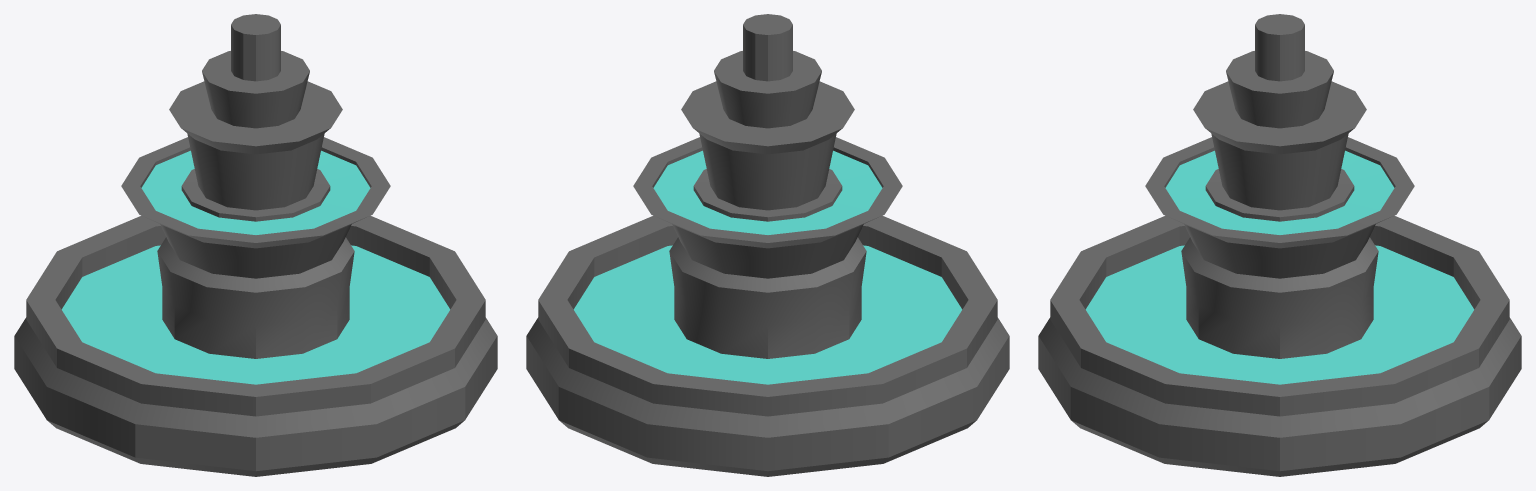
Rendered from Fontaine.fbx.
The picture shows the model from 3 angles, left to right: view 1: azimuth 30°, elevation 25°; view 2: azimuth 150°, elevation 25°; view 3: azimuth 270°, elevation 25°; orthographic projection.
Visible parts, largest first — view 1: Cylinder.078; view 2: Cylinder.078; view 3: Cylinder.078.
Part boxes in pixels (<box>): Cylinder.078: <box>14,14,497,476</box>; Cylinder.078: <box>526,14,1009,476</box>; Cylinder.078: <box>1038,14,1521,476</box>.
Size of the model in its own units: 1013 by 821 by 1013.
